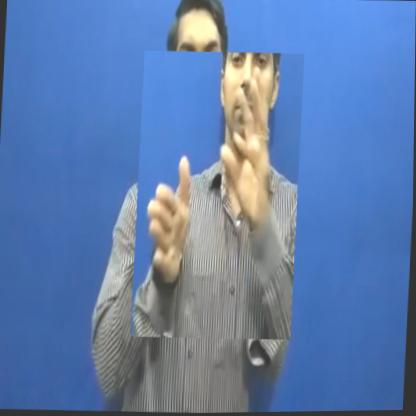Expensive: (132, 50, 305, 343)
